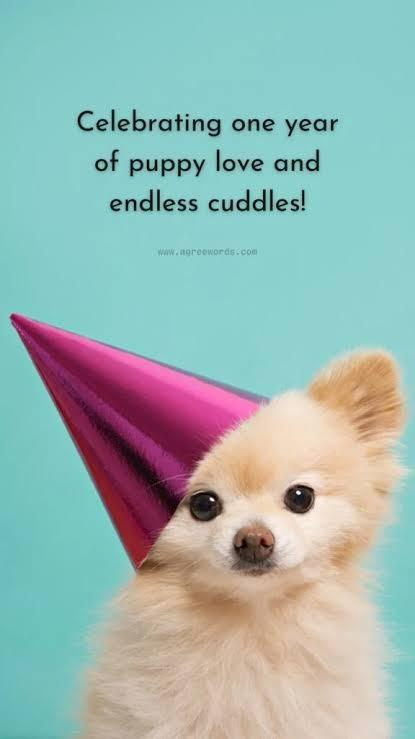adult_dog: (71, 350, 408, 739)
